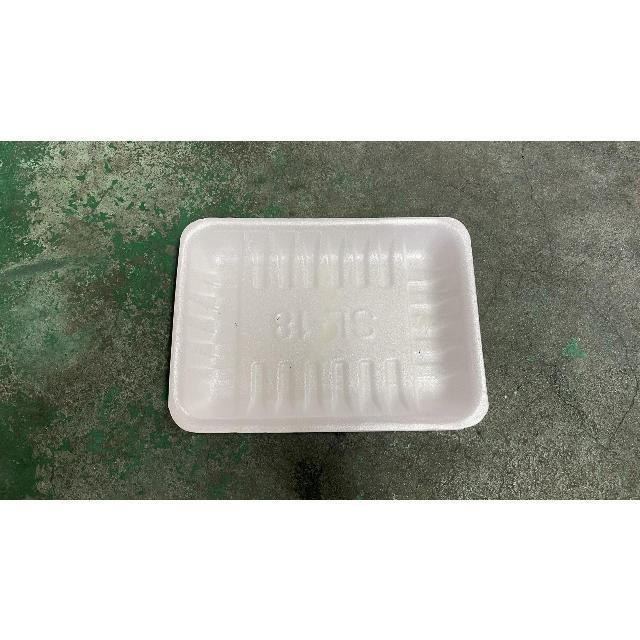Recipiente plastico: (169, 218, 489, 432)
